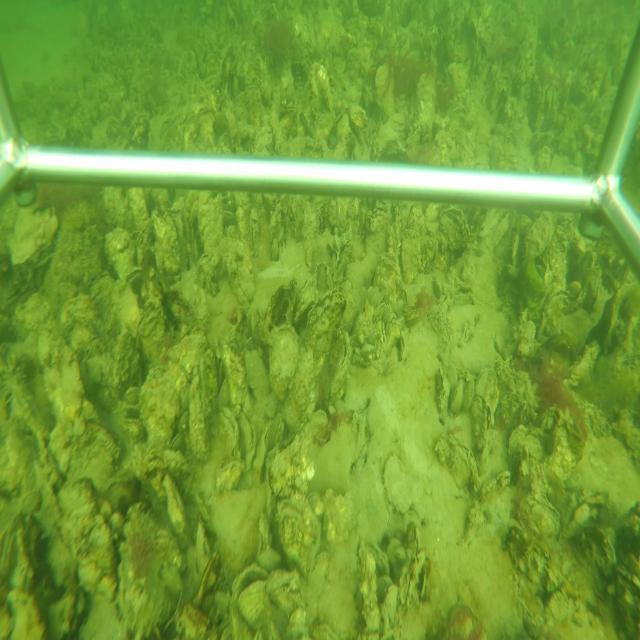Oyster-Closed: (276, 487, 324, 580), (269, 325, 302, 406), (518, 491, 562, 547), (135, 295, 167, 367), (382, 453, 414, 515), (86, 266, 116, 332), (206, 404, 242, 452), (330, 326, 352, 399), (255, 418, 273, 483), (214, 455, 244, 490), (114, 265, 144, 294), (446, 376, 464, 420), (462, 375, 476, 414), (385, 310, 398, 343), (372, 300, 386, 322), (366, 325, 380, 346), (368, 285, 378, 308)
Oyster-Indeterminate: (116, 499, 183, 640), (66, 418, 121, 495), (304, 288, 347, 385), (139, 370, 180, 450), (111, 319, 146, 405), (186, 373, 212, 467), (221, 339, 250, 420), (435, 206, 472, 252), (400, 222, 421, 286)
Oyster-Open: (230, 563, 267, 624), (470, 389, 492, 460)
